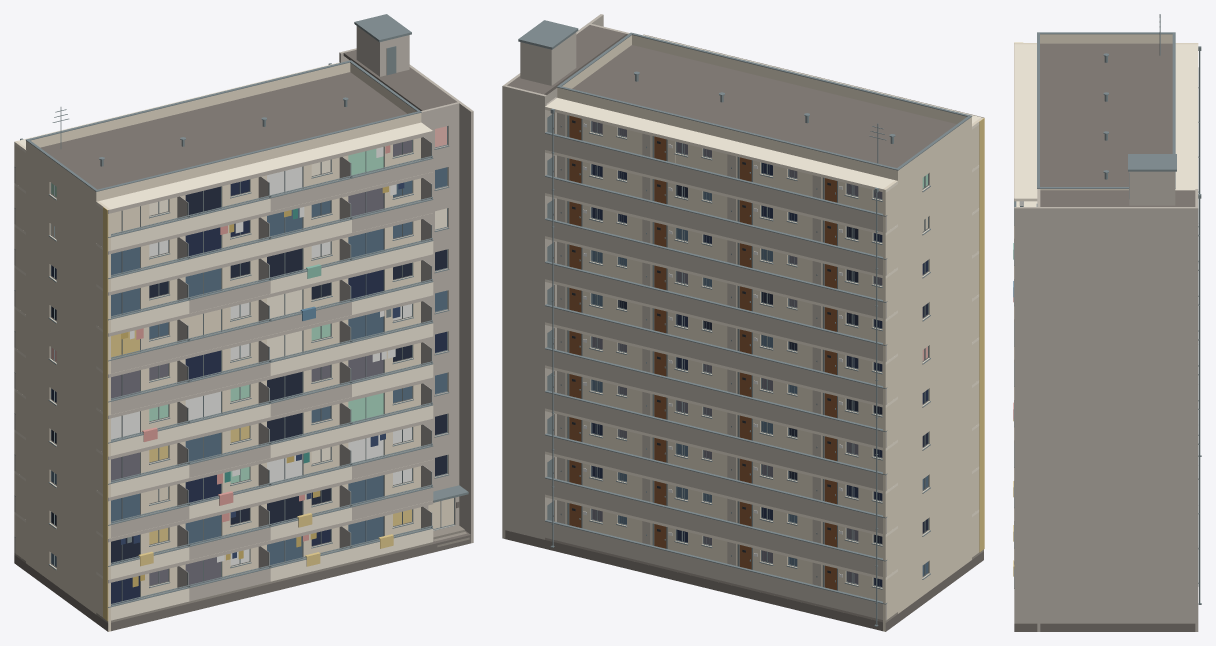
The model's file is tb_mansion_10f_01.fbx.
3 renders of one model, left to right at view 1: azimuth 30°, elevation 25°; view 2: azimuth 150°, elevation 25°; view 3: azimuth 270°, elevation 25°, orthographic. The views are drawn at different scales.
Visible parts, largest first — view 1: tb_mansion_10f_01; view 2: tb_mansion_10f_01; view 3: tb_mansion_10f_01.
Boxes of the visible parts, <box> form: tb_mansion_10f_01: <box>14,14,473,631</box>; tb_mansion_10f_01: <box>502,14,984,631</box>; tb_mansion_10f_01: <box>1013,14,1201,631</box>.
Size of what is drawn, in the model's own units: 27.05 by 33.1 by 12.25.
3 materials, 3 textured.
